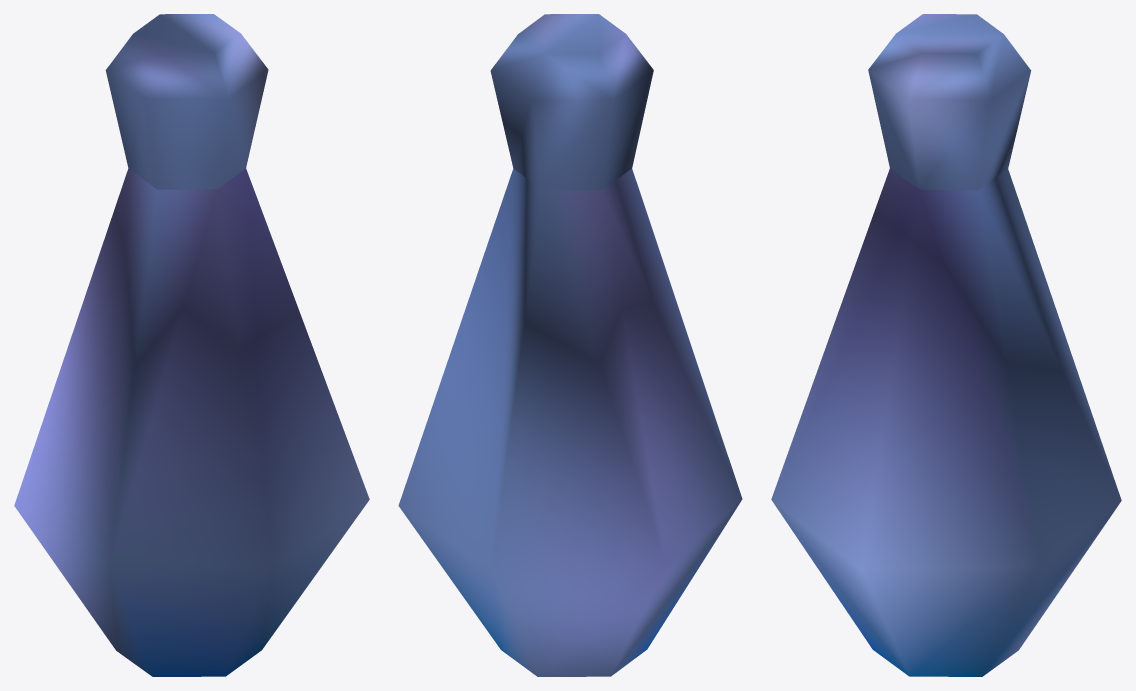
Rendered from bygf.hrc.gltf.
3 renders of one model, left to right at view 1: azimuth 30°, elevation 25°; view 2: azimuth 150°, elevation 25°; view 3: azimuth 270°, elevation 25°, orthographic.
Parts seen in each view (by area): view 1: bygfBone0_null; view 2: bygfBone0_null; view 3: bygfBone0_null.
Boxes of the visible parts, x1=… form: bygfBone0_null: x1=14, y1=14, x2=369, y2=676; bygfBone0_null: x1=398, y1=14, x2=742, y2=676; bygfBone0_null: x1=771, y1=14, x2=1121, y2=676.
Bounding box in the file's own units: 6.23 × 13.48 × 6.94.
